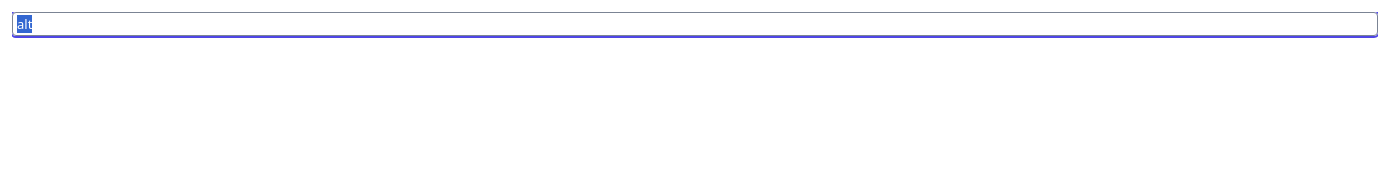
it: InlineEdit › Fehlschlag: Blur nach Ablehnung lässt das Feld mit Meldung offen
Earlier steps of the test are not shown.
Type "x" into the field named "Name" at (695, 24), box [12,12,1378,36]
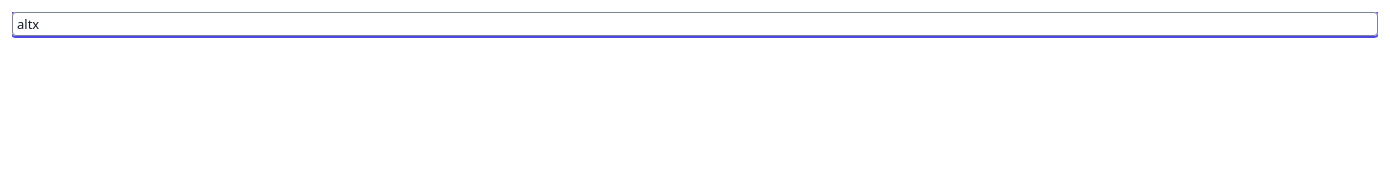
Press Tab
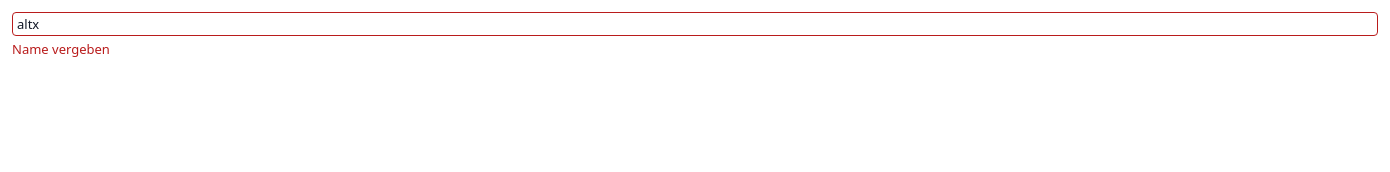
Expected: the field named "Name" is shown, [12,12,1378,36]
Expected: the text "Name vergeben" is shown, [12,40,110,58]
